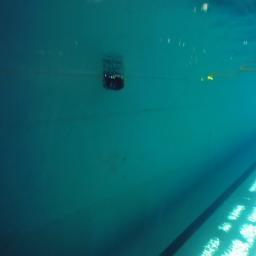Full: (104, 75, 124, 90)
Side: (102, 75, 126, 91)
